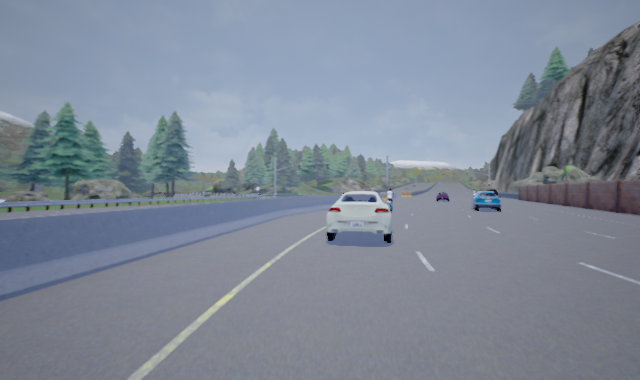bike: (386, 186, 394, 212)
vehicle: (324, 190, 394, 243), (471, 190, 502, 211), (435, 191, 450, 201)
